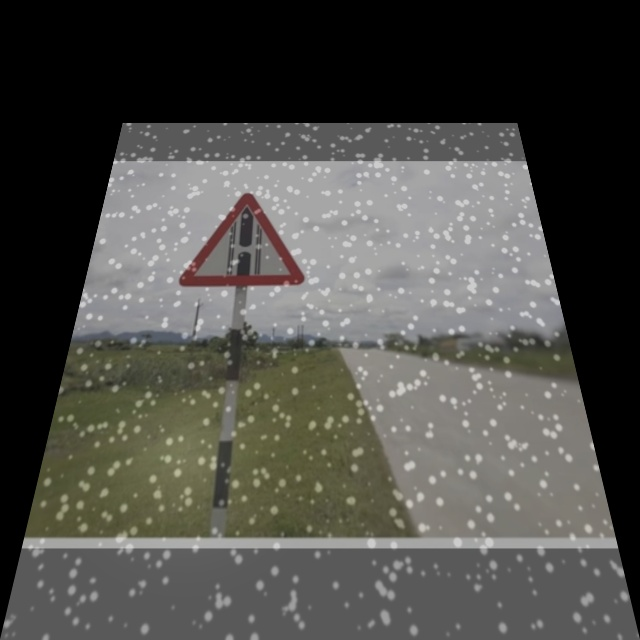Gap_in_Median: (177, 191, 309, 288)
